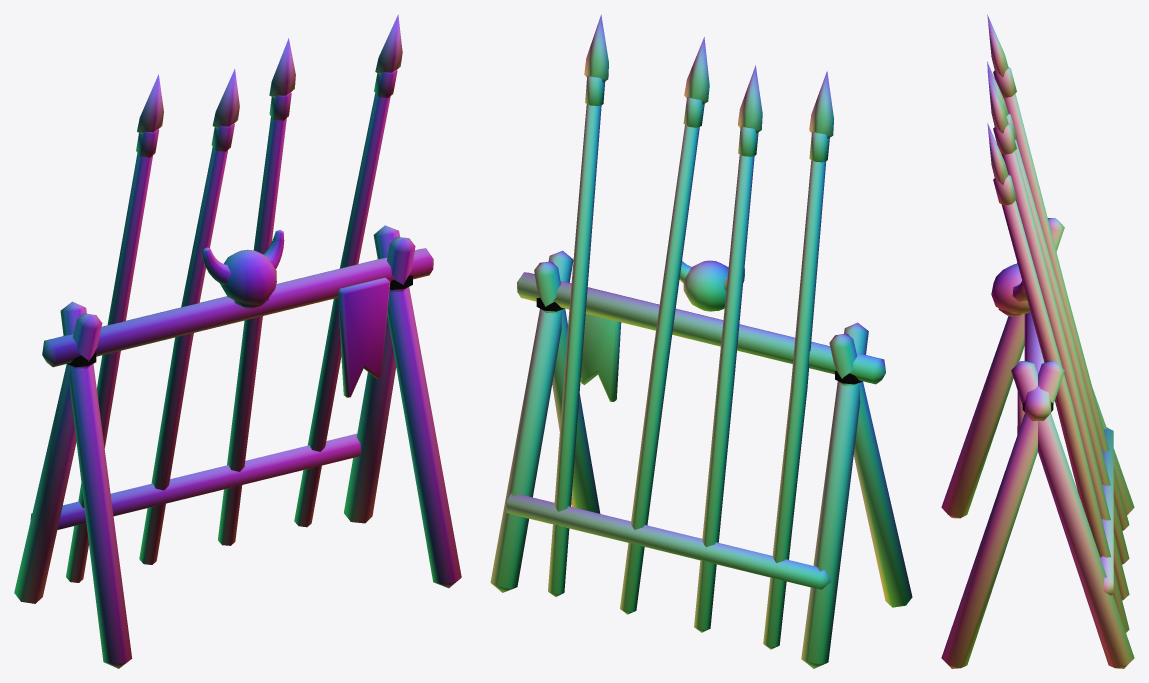
Rendered from SM_Prop_Goblin_SpearRack.fbx.
The picture shows the model from 3 angles, left to right: view 1: azimuth 30°, elevation 25°; view 2: azimuth 150°, elevation 25°; view 3: azimuth 270°, elevation 25°; orthographic projection. The views are drawn at different scales.
Parts seen in each view (by area): view 1: SM_Prop_Goblin_SpearRack; view 2: SM_Prop_Goblin_SpearRack; view 3: SM_Prop_Goblin_SpearRack.
Part boxes in pixels (x1,y1,x2,y2): SM_Prop_Goblin_SpearRack: [14, 14, 461, 668]; SM_Prop_Goblin_SpearRack: [490, 14, 912, 668]; SM_Prop_Goblin_SpearRack: [941, 14, 1134, 668].
Bounding box in the file's own units: 1.43 × 1.99 × 0.6506.
